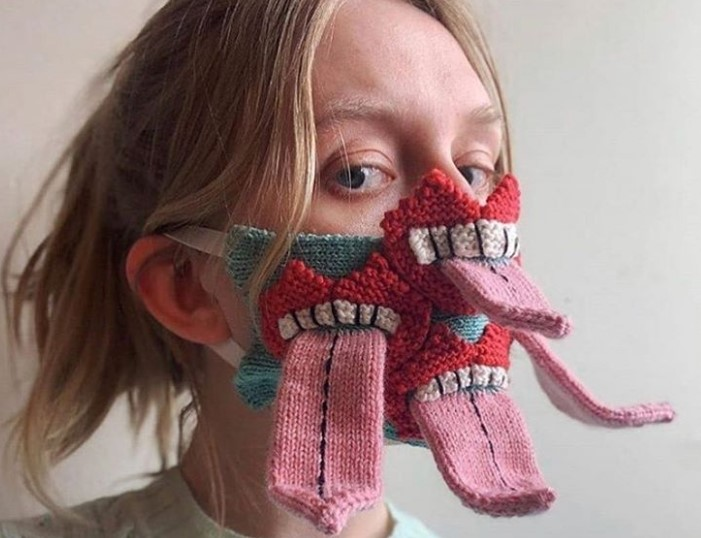face_with_mask: (154, 1, 523, 442)
